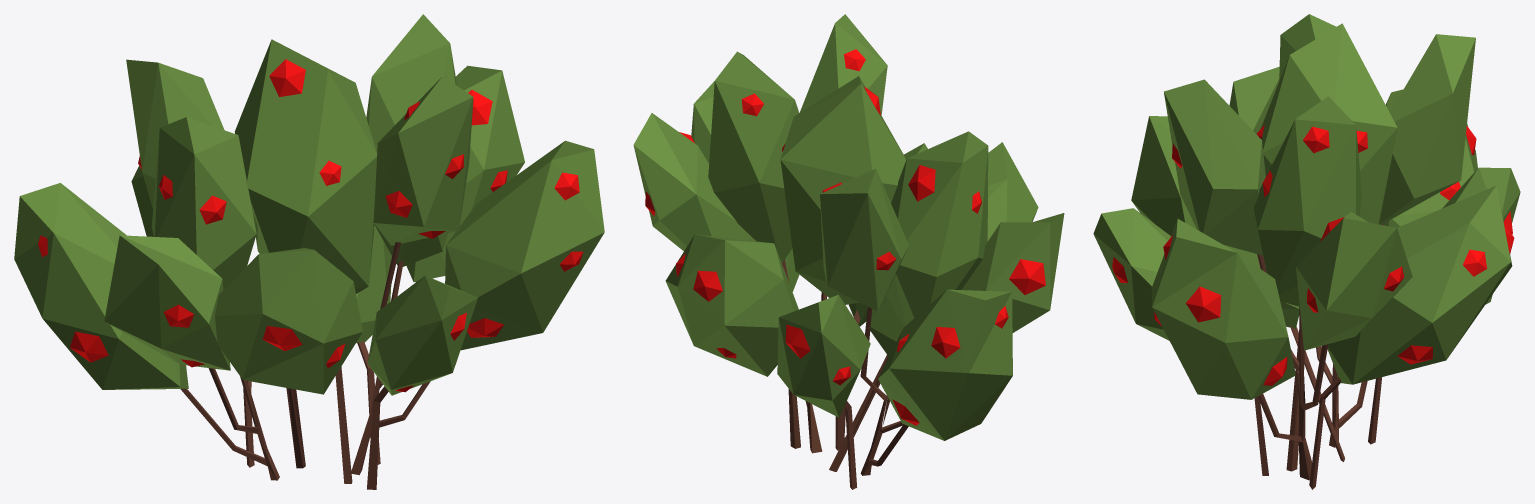
File: mountain_ash_with_berries_3.fbx
The picture shows the model from 3 angles, left to right: view 1: azimuth 30°, elevation 25°; view 2: azimuth 150°, elevation 25°; view 3: azimuth 270°, elevation 25°; orthographic projection. The views are drawn at different scales.
Parts seen in each view (by area): view 1: mountain_ash_with_berries_3; view 2: mountain_ash_with_berries_3; view 3: mountain_ash_with_berries_3.
Boxes of the visible parts, box(x1,y1,x2,y2) form: mountain_ash_with_berries_3: box(14, 14, 604, 489); mountain_ash_with_berries_3: box(633, 14, 1064, 489); mountain_ash_with_berries_3: box(1093, 14, 1520, 489).
Bounding box in the file's own units: 175 × 162 × 148.
